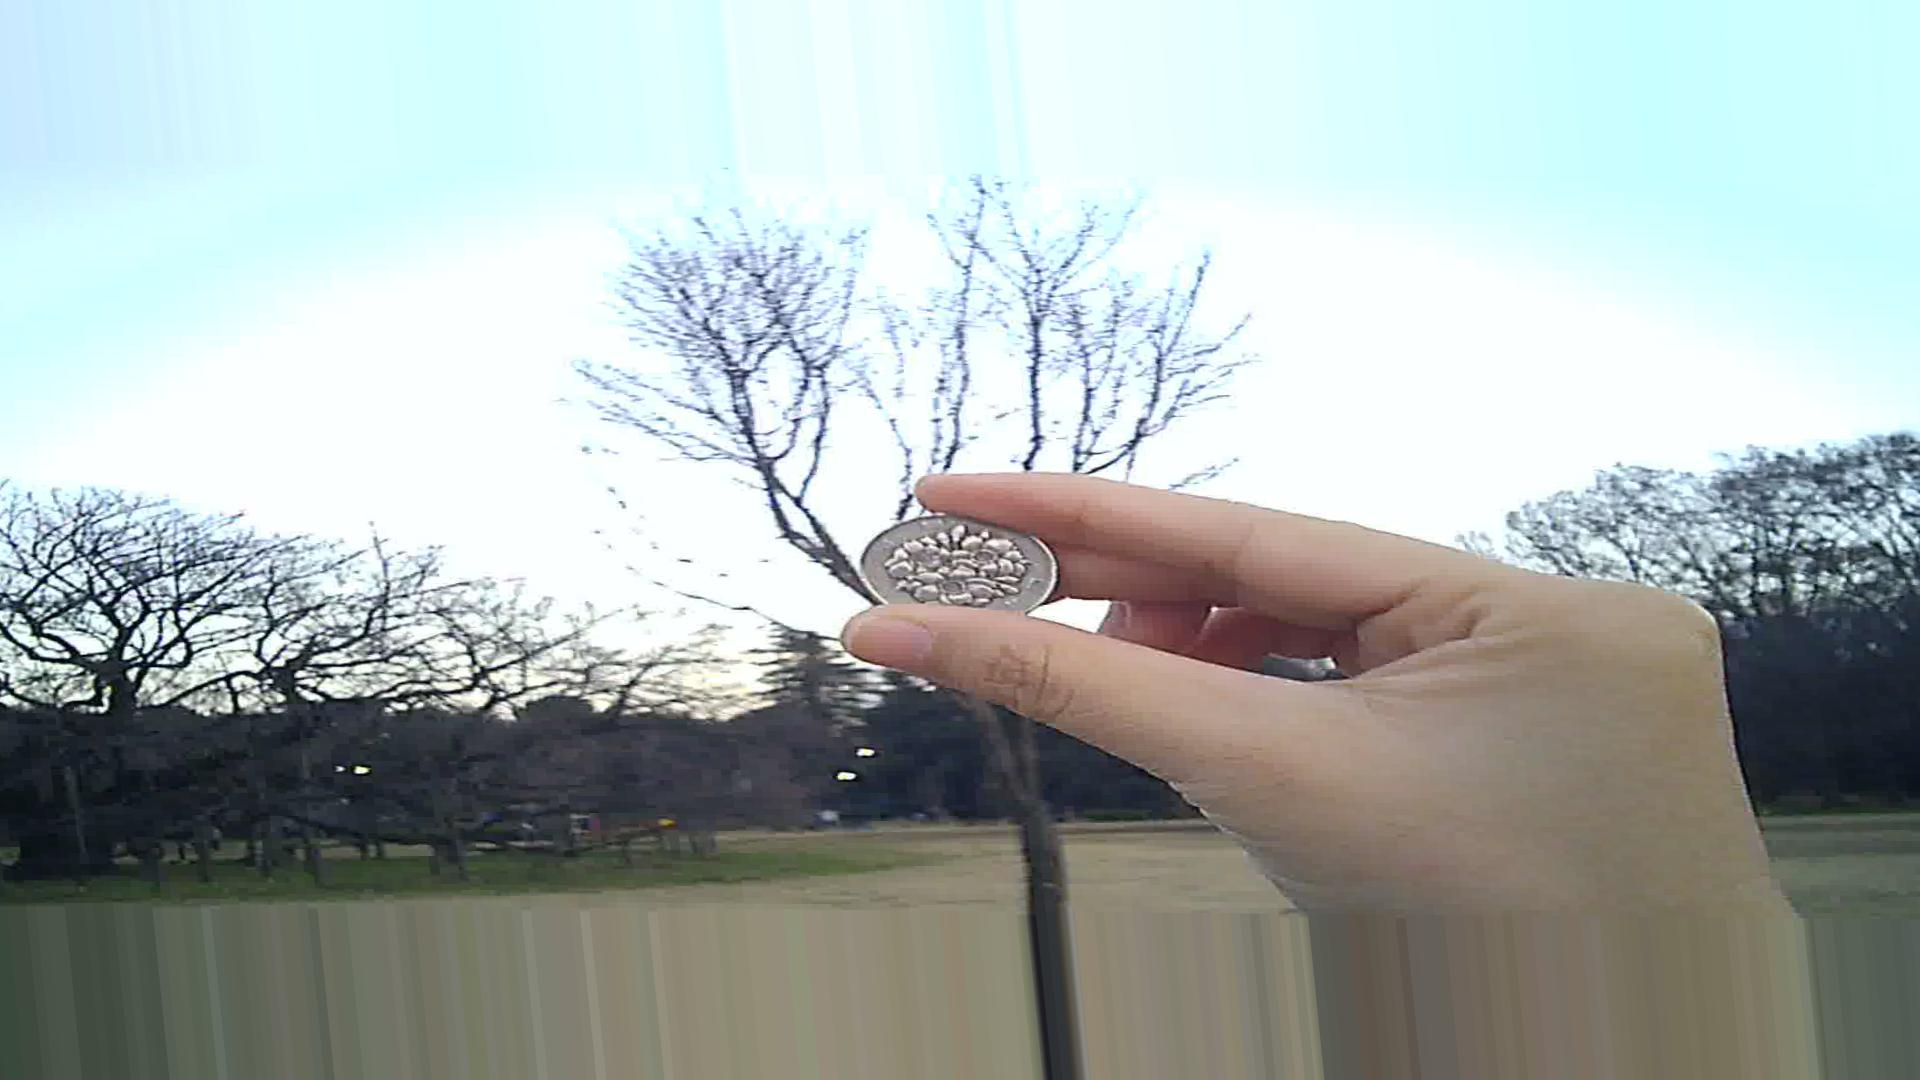100 Yen: (856, 501, 1073, 625)
